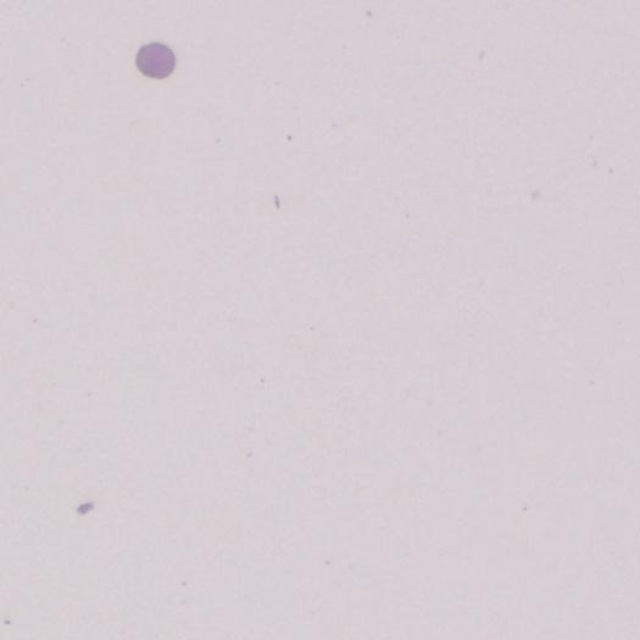non_viable: (135, 43, 174, 78)
